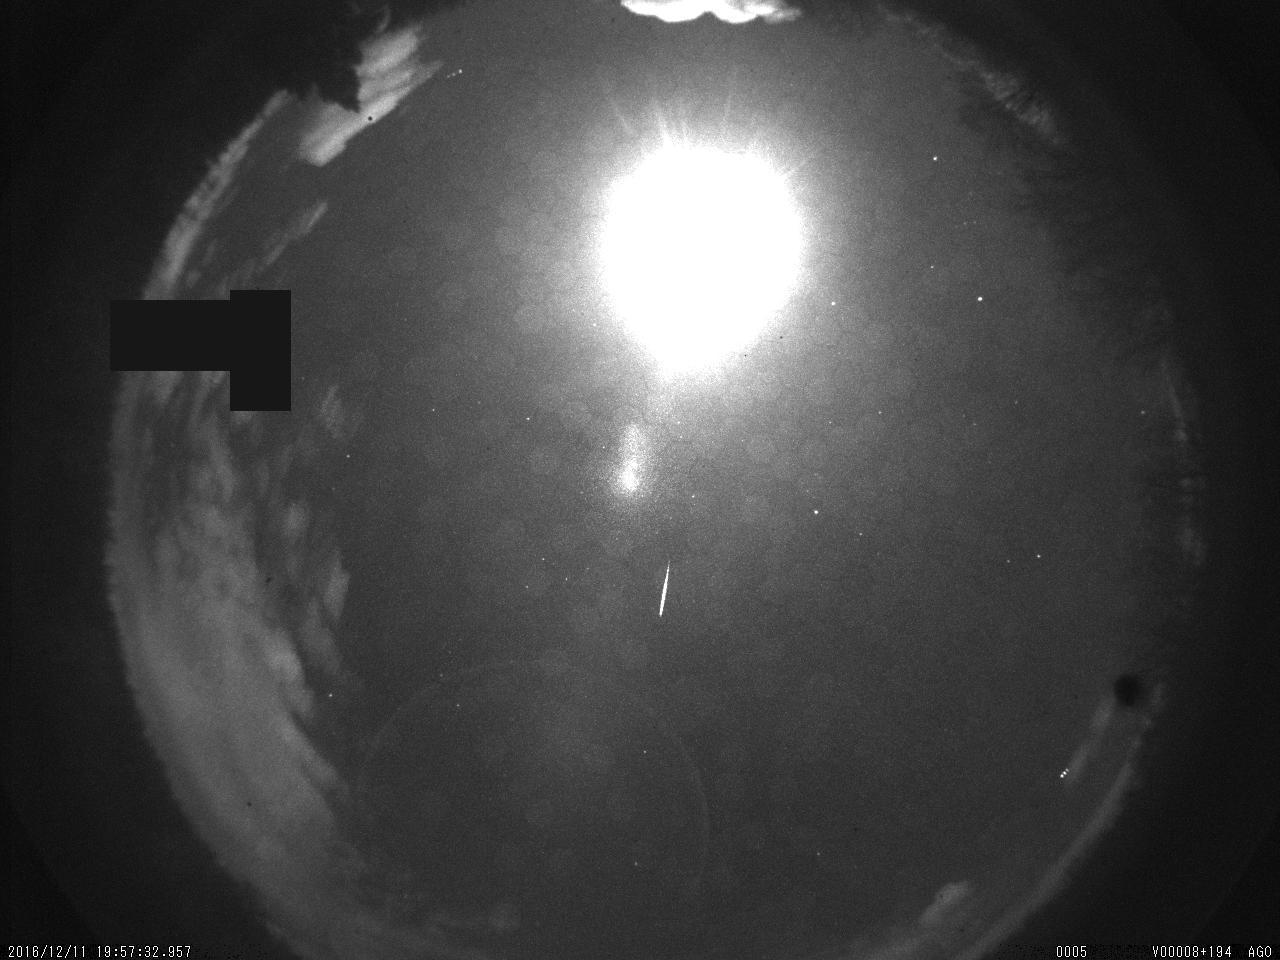Meteor: (655, 555, 671, 620)
